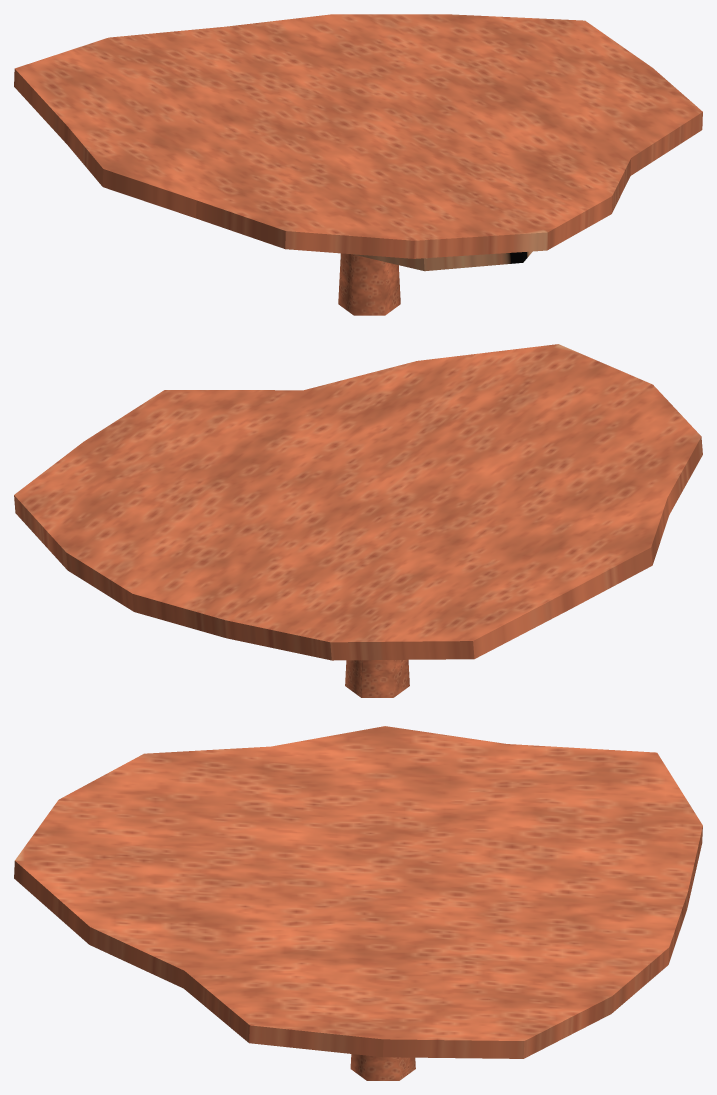
The model's file is plant_shallows_coral_plate_a_lod2.glb.
3 renders of one model, top to bottom at view 1: azimuth 30°, elevation 25°; view 2: azimuth 150°, elevation 25°; view 3: azimuth 270°, elevation 25°, orthographic. The views are drawn at different scales.
Parts seen in each view (by area): view 1: plant_shallows_coral_plate_a; view 2: plant_shallows_coral_plate_a; view 3: plant_shallows_coral_plate_a.
Boxes of the visible parts, left/top/right/bottom form: plant_shallows_coral_plate_a: left=14, top=14, right=702, bottom=315; plant_shallows_coral_plate_a: left=14, top=344, right=702, bottom=697; plant_shallows_coral_plate_a: left=14, top=726, right=702, bottom=1080.
Bounding box in the file's own units: 0.9127 × 0.3258 × 0.9492.
1 material, 1 textured.
